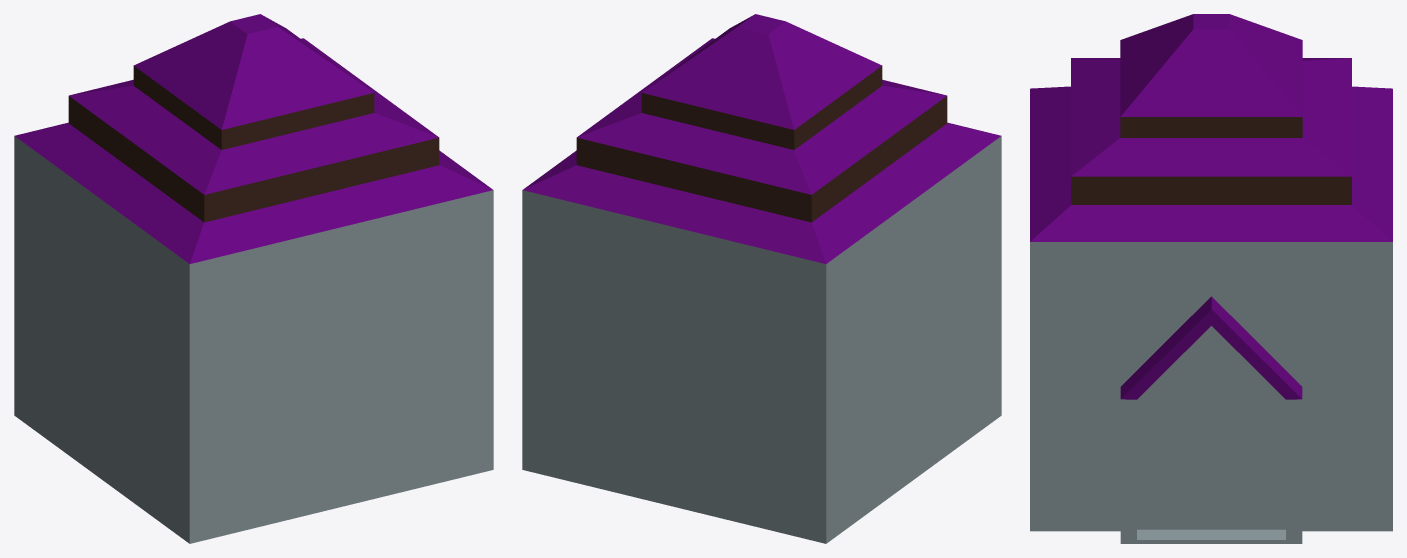
3 renders of one model, left to right at view 1: azimuth 30°, elevation 25°; view 2: azimuth 150°, elevation 25°; view 3: azimuth 270°, elevation 25°, orthographic. The views are drawn at different scales.
Visible parts, largest first — view 1: Base; view 2: Base; view 3: Base.
Boxes of the visible parts, left/top/right/bottom form: Base: left=14, top=14, right=493, bottom=543; Base: left=522, top=14, right=1001, bottom=543; Base: left=1030, top=14, right=1392, bottom=543.
Size of the model in its own units: 804 by 977 by 742.
